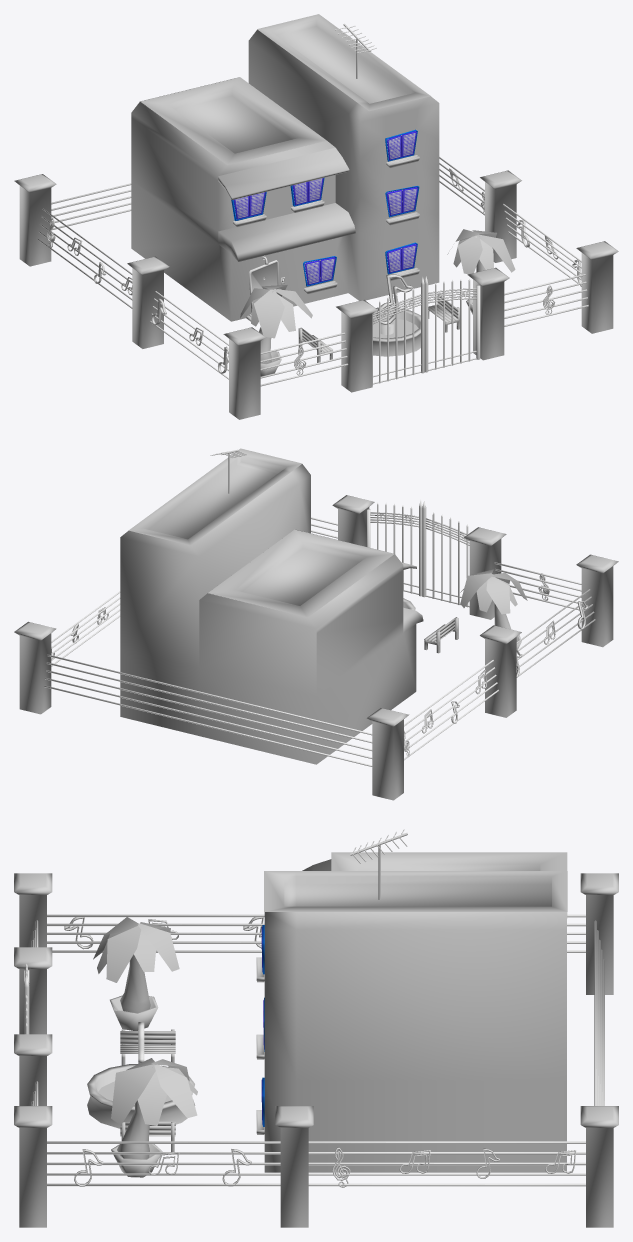
Rendered from casamusica.fbx.
3 renders of one model, top to bottom at view 1: azimuth 30°, elevation 25°; view 2: azimuth 150°, elevation 25°; view 3: azimuth 270°, elevation 25°, orthographic. The views are drawn at different scales.
Parts seen in each view (by area): view 1: casa, teto, grade, toldo, Pilar01, Pilar04, Pilar03, Pilar06, arvore02, Pilar05, Pilar02, Portao_L (+7 smaller); view 2: casa, teto, grade, Pilar07, Pilar06, Pilar04, Pilar05, arvore02, Portao_R, Pilar03, Portao_L, Pilar02 (+1 smaller); view 3: casa, teto, grade, arvore01, arvore02, Pilar08, Pilar07, Pilar01, Pilar06, Pilar03, Pilar04, Pilar02 (+5 smaller).
Boxes of the visible parts, x1,y1,x2,y2 form: casa: (131, 29, 439, 321); teto: (140, 14, 430, 165); grade: (37, 157, 588, 386); toldo: (218, 147, 355, 261); Pilar01: (576, 241, 618, 333); Pilar04: (223, 327, 265, 419); Pilar03: (336, 300, 377, 392); Pilar06: (14, 174, 56, 266); arvore02: (240, 285, 312, 376); Pilar05: (127, 256, 169, 348); Pilar02: (467, 267, 509, 360); Portao_L: (424, 276, 480, 372); casa: (120, 464, 416, 764); teto: (128, 448, 393, 617); grade: (44, 517, 595, 766); Pilar07: (14, 621, 56, 714); Pilar06: (367, 708, 409, 800); Pilar04: (576, 554, 618, 647); Pilar05: (480, 625, 521, 717); arvore02: (460, 569, 527, 649); Portao_R: (422, 501, 469, 607); Pilar03: (464, 527, 506, 619); Portao_L: (367, 500, 422, 596); Pilar02: (332, 495, 374, 546); casa: (264, 912, 566, 1172); teto: (264, 852, 567, 918); grade: (31, 914, 604, 1187); arvore01: (111, 1058, 197, 1177); arvore02: (93, 917, 179, 1030); Pilar08: (275, 1106, 313, 1227); Pilar07: (580, 1106, 618, 1227); Pilar01: (14, 1106, 52, 1227); Pilar06: (580, 873, 618, 994); Pilar03: (14, 947, 52, 1034); Pilar04: (14, 873, 52, 947); Pilar02: (14, 1034, 52, 1105).
Size of the model in its own units: 20.98 by 12.14 by 21.3.
